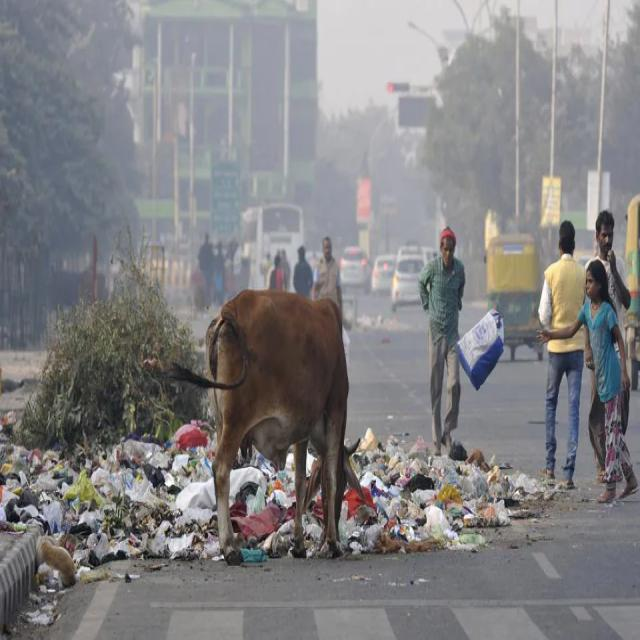garbage: (0, 248, 562, 583)
